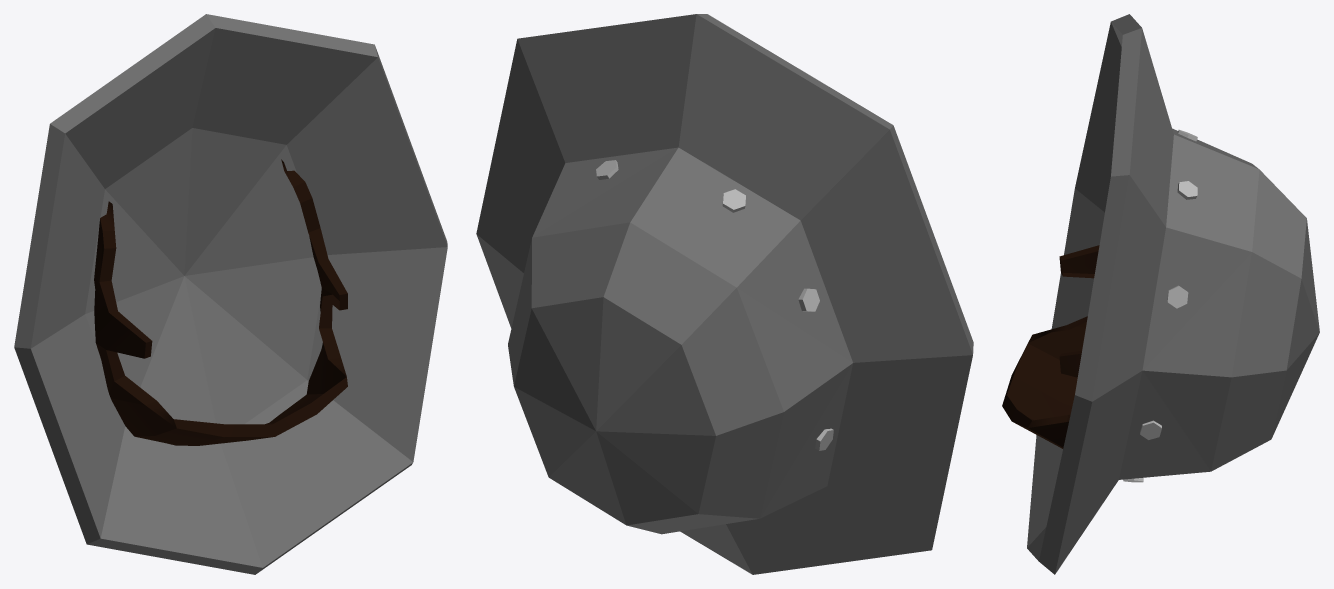
File: Helmet 08.FBX
The picture shows the model from 3 angles, left to right: view 1: azimuth 30°, elevation 25°; view 2: azimuth 150°, elevation 25°; view 3: azimuth 270°, elevation 25°; orthographic projection. The views are drawn at different scales.
Parts seen in each view (by area): view 1: Helmet 08, Hair Headgear; view 2: Helmet 08; view 3: Helmet 08, Hair Headgear.
Boxes of the visible parts, box(x1,y1,x2,y2) form: Helmet 08: box(14, 14, 447, 574); Hair Headgear: box(94, 159, 347, 445); Helmet 08: box(476, 14, 973, 574); Helmet 08: box(1027, 14, 1319, 574); Hair Headgear: box(1002, 245, 1099, 448).
Bounding box in the file's own units: 58.46 × 36.58 × 67.71.
